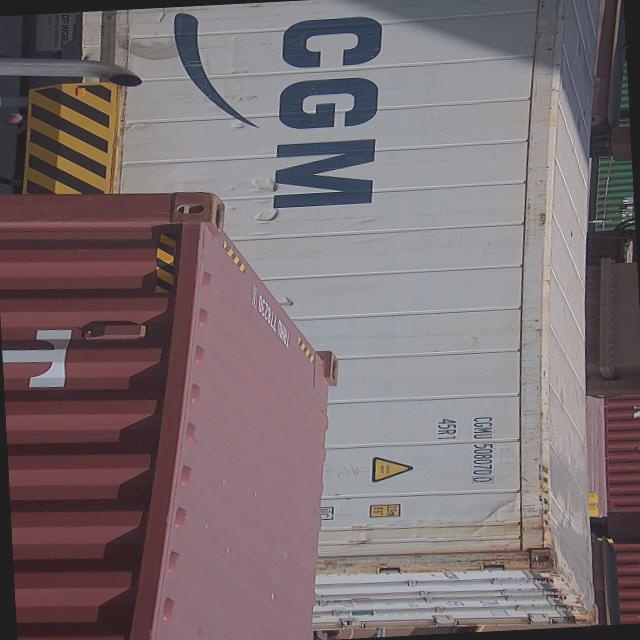Dent: (234, 169, 299, 228)
Rusty: (349, 522, 569, 585)
